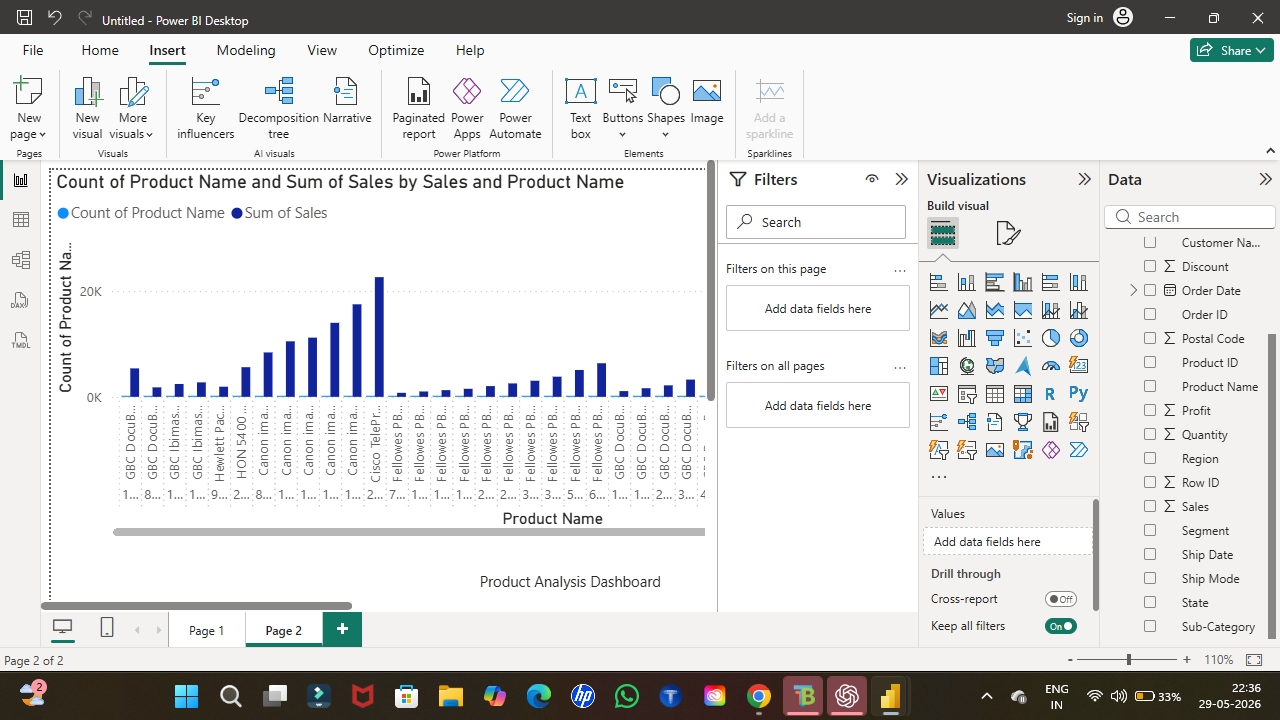

What the dashboard file says about the page in this screenshot:
{"tool":"powerbi","page":{"name":"Page 2","canvas":[1280,720],"ordinal":1},"visuals":[{"type":"lineClusteredColumnComboChart","fields":{"Category":["project Analysis 1.Sales","project Analysis 1.Product Name"],"Y":["CountNonNull(project Analysis 1.Product Name)","Sum(project Analysis 1.Sales)"]},"box":[0,0,861.4,338.6],"z":0},{"type":"textbox","box":[10,360,924.3,58.6],"z":1}]}

Visuals, with their boxes on the page's 1280x720 design canvas (x1, y1, x2, y2). These are canvas units, not pixel positions in the 1280x720 screenshot, which may show the page scaled, cropped or inside an application window:
lineClusteredColumnComboChart - project Analysis 1.Sales x project Analysis 1.Product Name: detection(0, 0, 861, 339)
textbox: detection(10, 360, 934, 419)
